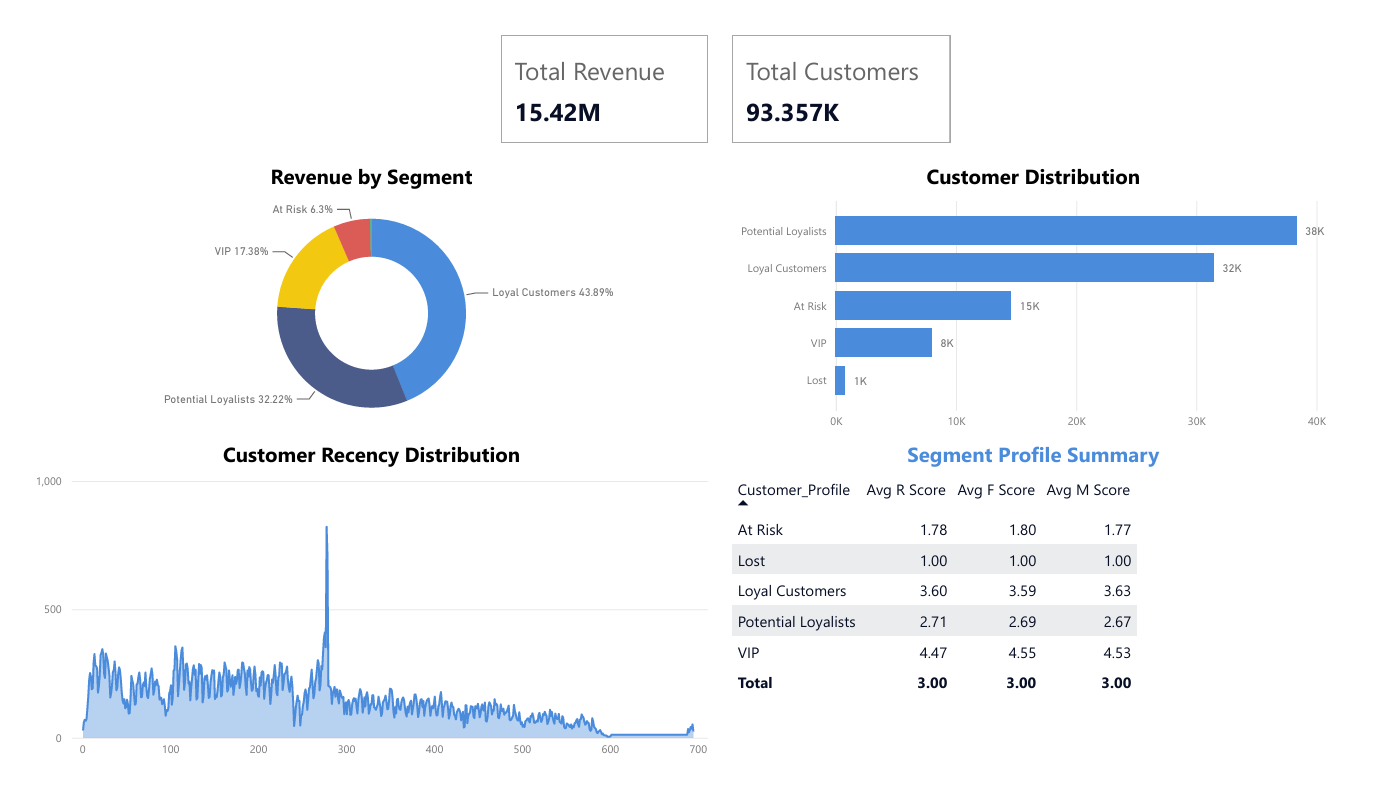

What the dashboard file says about the page in this screenshot:
{"tool":"powerbi","page":{"name":"Page 1","canvas":[1280,720],"ordinal":0},"visuals":[{"type":"clusteredBarChart","title":"Customer Distribution","fields":{"Category":["rfm_final_data.Customer_Profile"],"Y":["CountNonNull(rfm_final_data.customer_unique_id)"]},"box":[682,129,598.3,271.7],"z":0},{"type":"cardVisual","fields":{"Data":["Sum(rfm_final_data.monetary)"]},"box":[455.6,0,212.7,115.3],"z":1000},{"type":"cardVisual","fields":{"Data":["Count(rfm_final_data.customer_unique_id)"]},"box":[682,0,223.7,115.3],"z":2000},{"type":"donutChart","title":"Revenue by Segment","fields":{"Y":["Sum(rfm_final_data.monetary)"],"Category":["rfm_final_data.Customer_Profile"]},"box":[0,129,668.3,271.7],"z":3000},{"type":"pivotTable","title":"Segment Profile Summary","fields":{"Rows":["rfm_final_data.Customer_Profile"],"Values":["Avg(rfm_final_data.R_Score)","Avg(rfm_final_data.F_Score)","Avg(rfm_final_data.M_Score)"]},"box":[682.3,401.1,598.3,319.7],"z":4000},{"type":"areaChart","title":"Customer Recency Distribution","fields":{"Category":["rfm_final_data.recency"],"Y":["CountNonNull(rfm_final_data.customer_unique_id)"]},"box":[0,400.7,668.3,319.7],"z":5000}]}

Visuals, with their boxes on the page's 1280x720 design canvas (x1, y1, x2, y2). These are canvas units, not pixel positions in the 1383x810 screenshot, which may show the page scaled, cropped or inside an application window:
"Customer Distribution" clusteredBarChart: 682:129:1280:401
cardVisual - Sum(rfm_final_data.monetary): 456:0:668:115
cardVisual - Count(rfm_final_data.customer_unique_id): 682:0:906:115
"Revenue by Segment" donutChart: 0:129:668:401
"Segment Profile Summary" pivotTable: 682:401:1281:721
"Customer Recency Distribution" areaChart: 0:401:668:720
